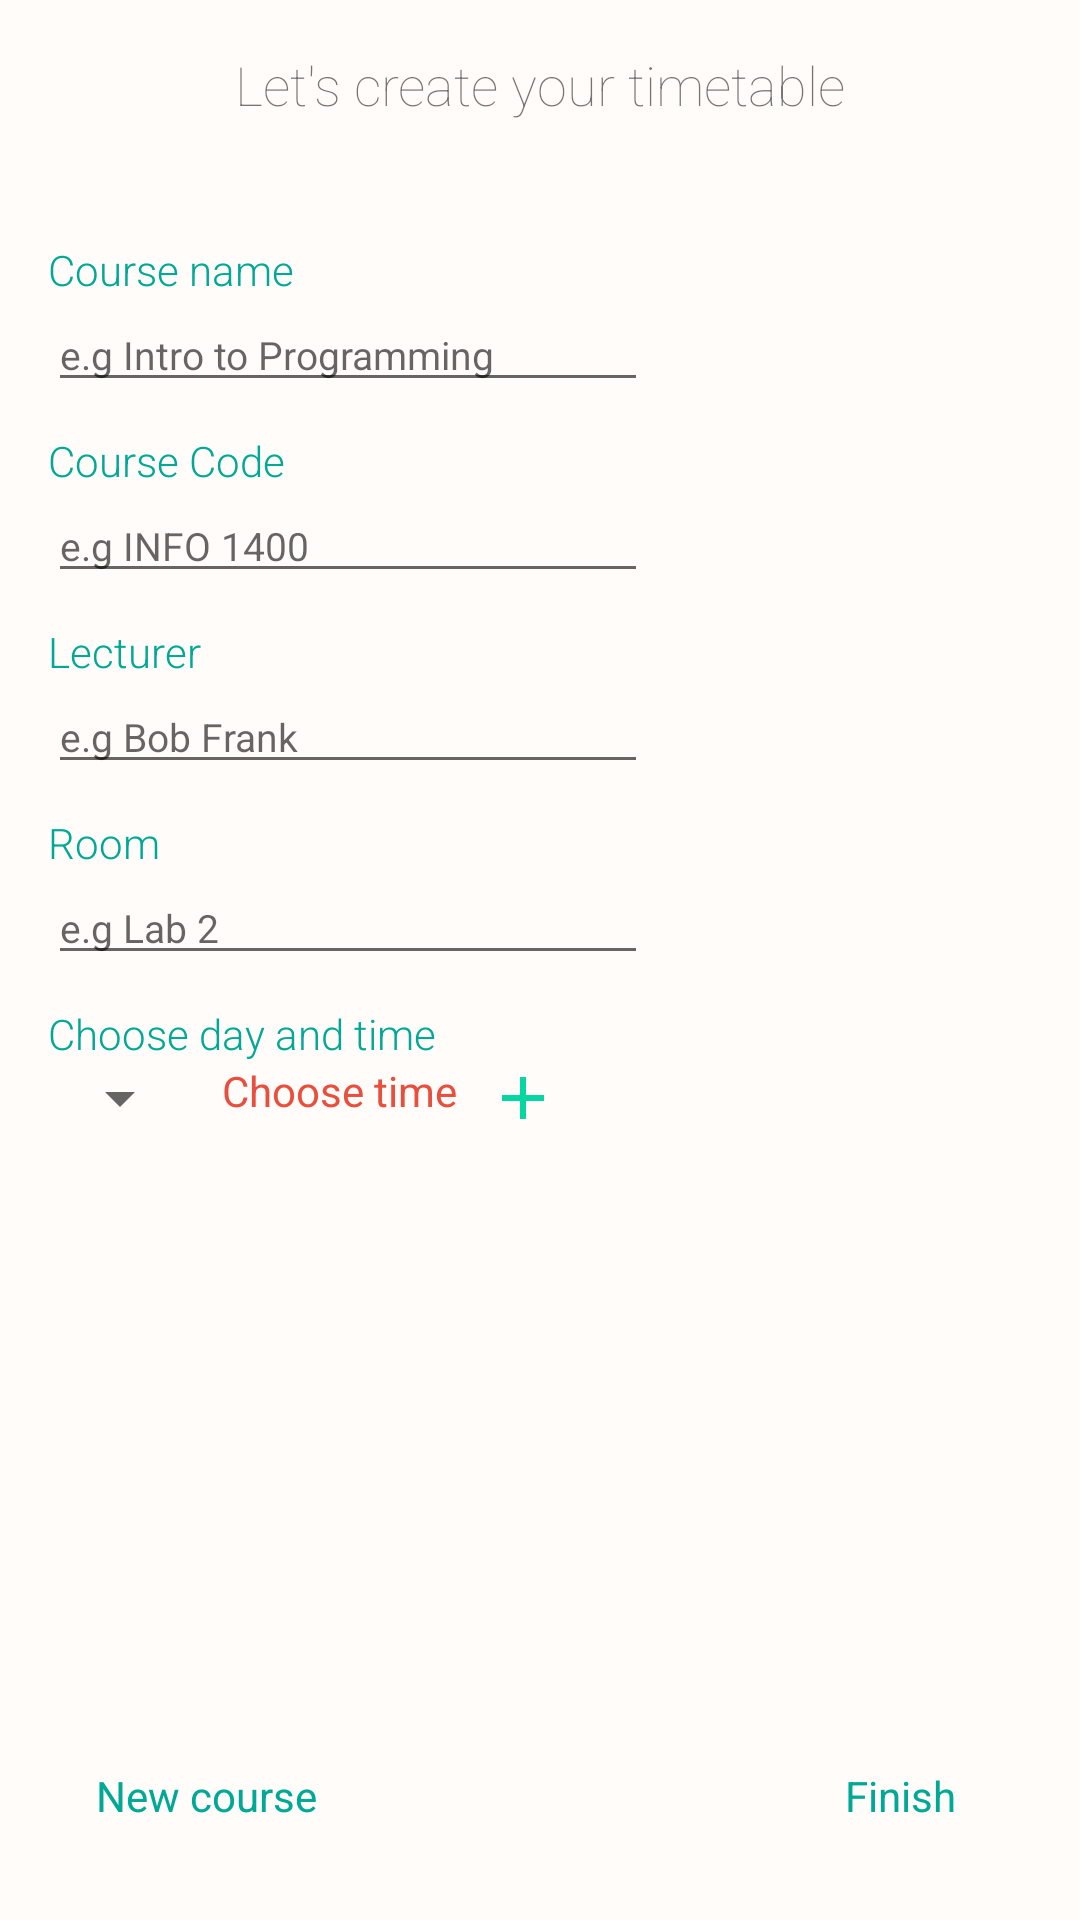

Icon click points for this 1080w x 1920h phone screenshot, format [x,y]:
add: [523,1098]
